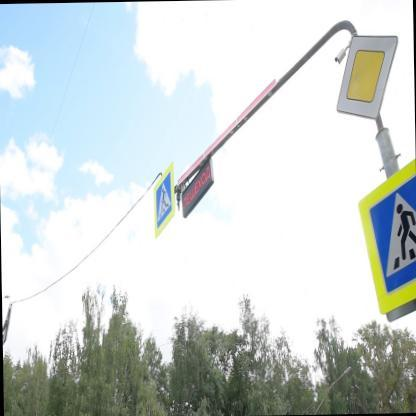obstructed_road_sign: (359, 160, 416, 316)
road_sign: (337, 35, 397, 121), (154, 164, 175, 237)
